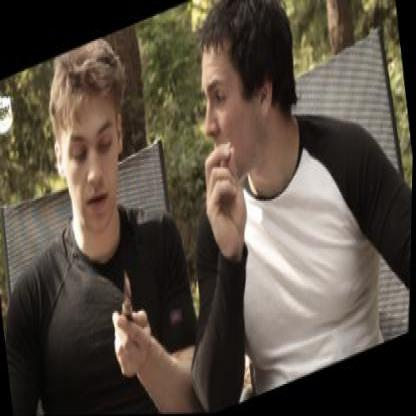knife: (96, 250, 152, 364)
